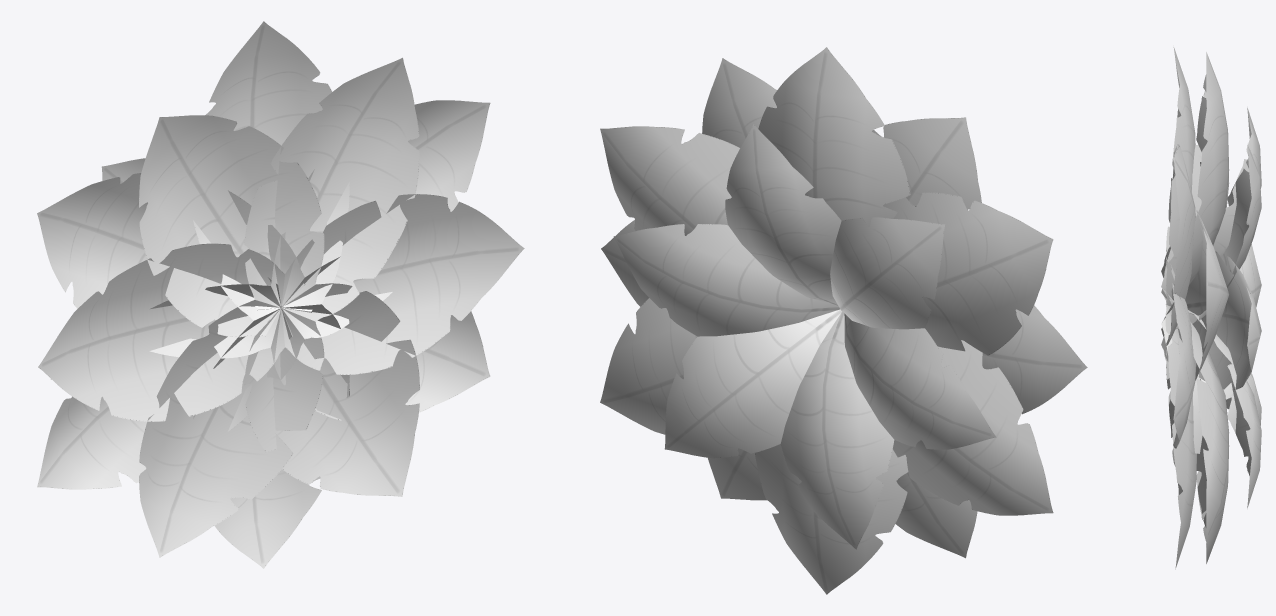
File: BigPlant.fbx
3 renders of one model, left to right at view 1: azimuth 30°, elevation 25°; view 2: azimuth 150°, elevation 25°; view 3: azimuth 270°, elevation 25°, orthographic. The views are drawn at different scales.
Parts seen in each view (by area): view 1: Fern; view 2: Fern; view 3: Fern.
Boxes of the visible parts, x1,y1,x2,y2 form: Fern: [37, 21, 524, 568]; Fern: [600, 47, 1087, 594]; Fern: [1161, 47, 1261, 569].
Size of the model in its own units: 15770 by 15488 by 3314.
